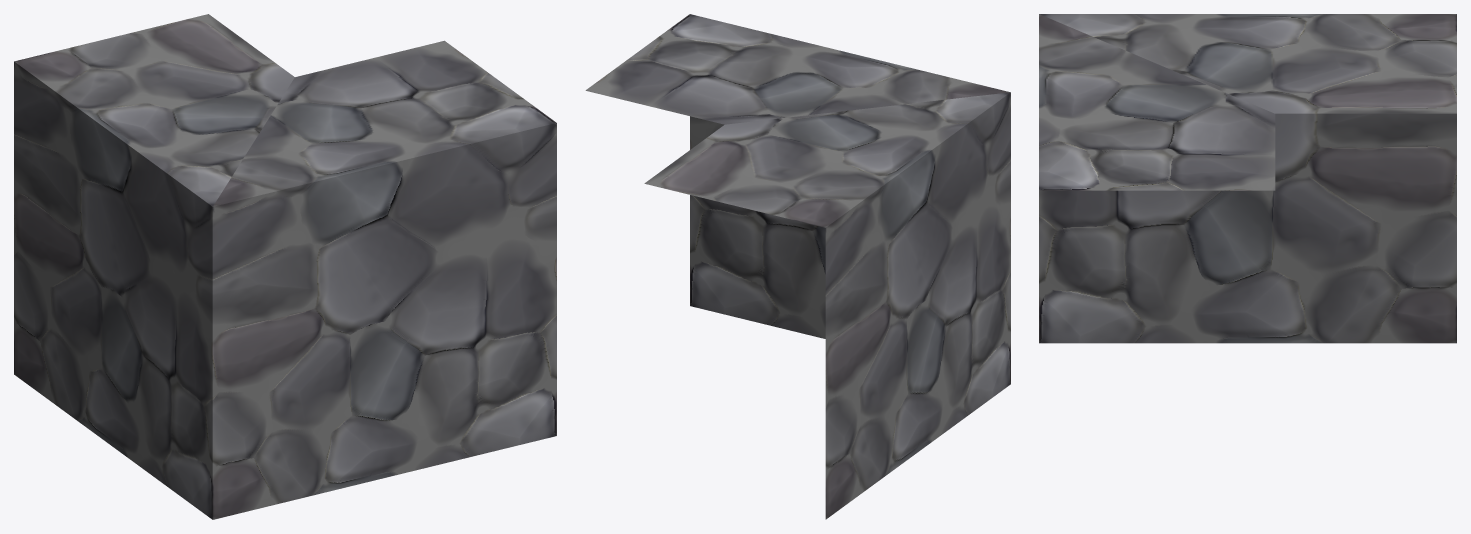
File: base_convext.fbx
3 renders of one model, left to right at view 1: azimuth 30°, elevation 25°; view 2: azimuth 150°, elevation 25°; view 3: azimuth 270°, elevation 25°, orthographic. The views are drawn at different scales.
Visible parts, largest first — view 1: base_convext; view 2: base_convext; view 3: base_convext.
Boxes of the visible parts, x1,y1,x2,y2 form: base_convext: [14, 14, 556, 519]; base_convext: [585, 14, 1010, 519]; base_convext: [1039, 14, 1456, 343].
Size of the model in its own units: 230 by 200 by 230.
